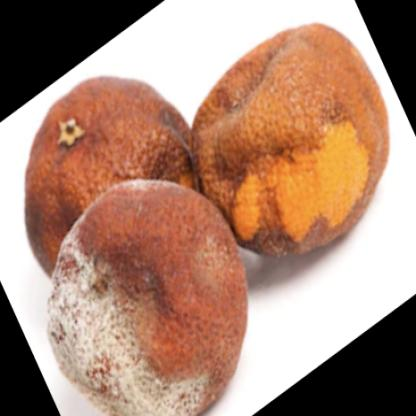rotten: (27, 21, 390, 416)
